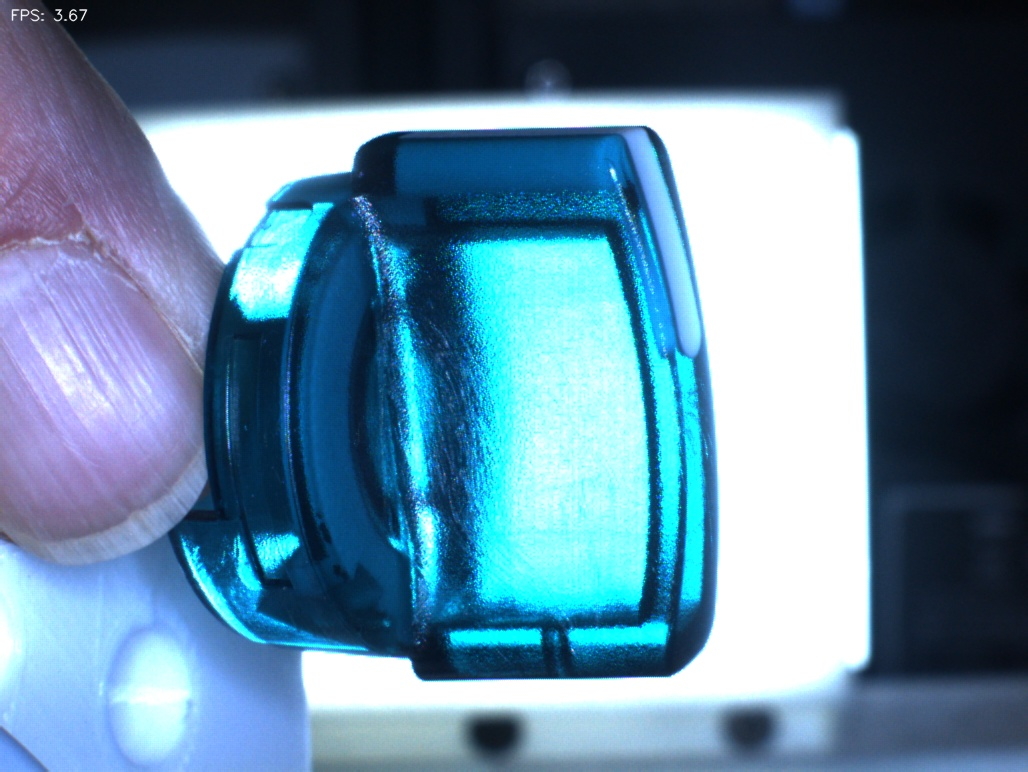Bulle: (514, 584, 611, 697)
